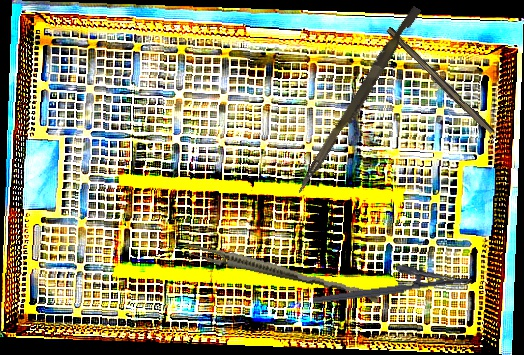Needle Holder: (309, 255, 473, 305)
Pusher: (295, 2, 422, 199)
Scalpel Handle: (382, 26, 497, 137)
Tissue Forceps: (184, 241, 382, 304)
